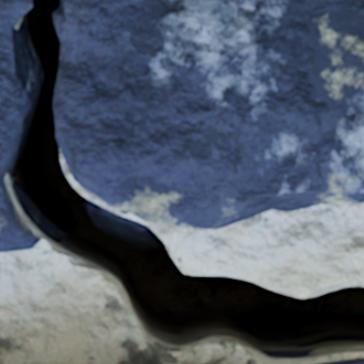brick: (330, 359, 363, 363)
broken_brick: (55, 0, 363, 230), (0, 0, 31, 171), (0, 189, 30, 254)
crack: (0, 0, 363, 363)
